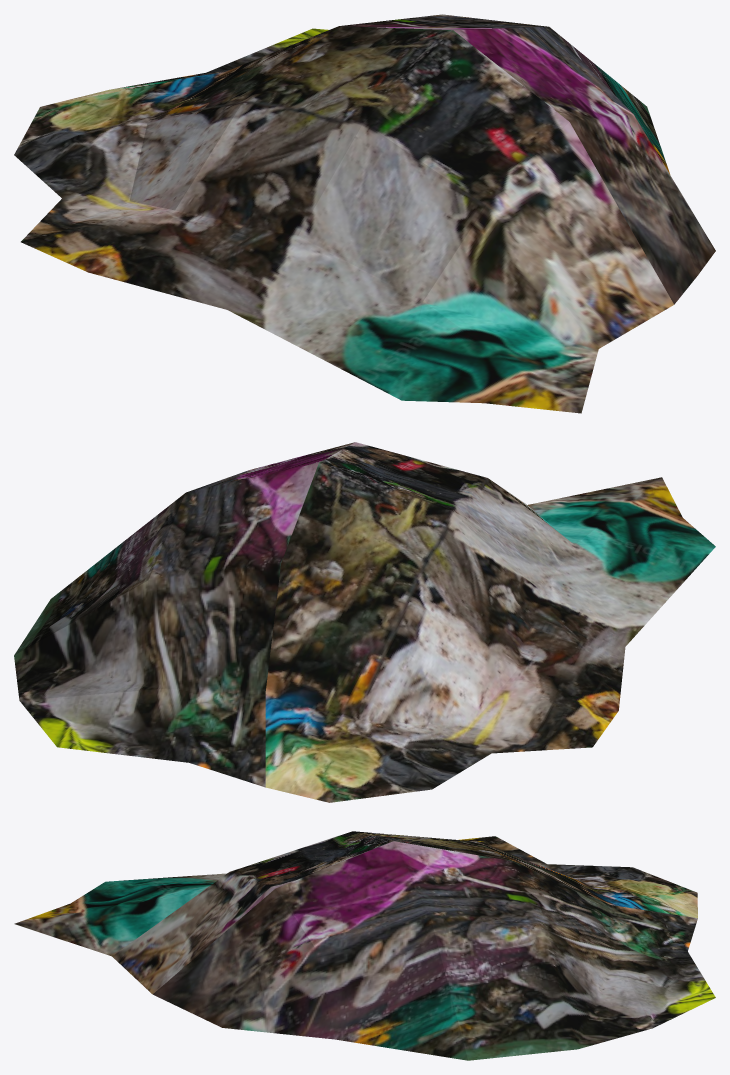
The model's file is Trash2.fbx.
3 renders of one model, top to bottom at view 1: azimuth 30°, elevation 25°; view 2: azimuth 150°, elevation 25°; view 3: azimuth 270°, elevation 25°, orthographic. The views are drawn at different scales.
Visible parts, largest first — view 1: trash1; view 2: trash1; view 3: trash1.
Boxes of the visible parts, <box> form: trash1: <box>14,14,715,413</box>; trash1: <box>14,442,715,802</box>; trash1: <box>14,831,715,1060</box>.
Size of the model in its own units: 1.88 by 2.48 by 0.5143.
